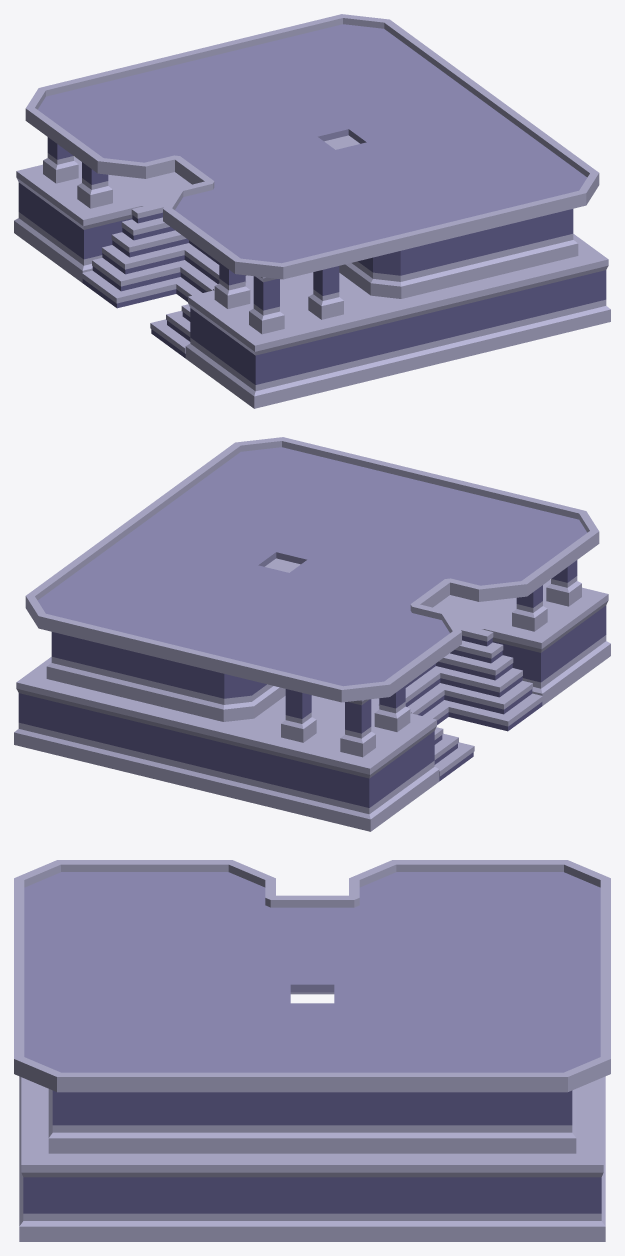
Rendered from loot_room.fbx.
3 renders of one model, top to bottom at view 1: azimuth 30°, elevation 25°; view 2: azimuth 150°, elevation 25°; view 3: azimuth 270°, elevation 25°, orthographic. The views are drawn at different scales.
Visible parts, largest first — view 1: mergedBlocks; view 2: mergedBlocks; view 3: mergedBlocks.
Boxes of the visible parts, x1,y1,x2,y2 form: mergedBlocks: (14,14,610,408); mergedBlocks: (14,437,610,831); mergedBlocks: (14,860,610,1241).
Size of the model in its own units: 61.25 by 22 by 71.25.
Materials: 1 (1 with a texture image).
